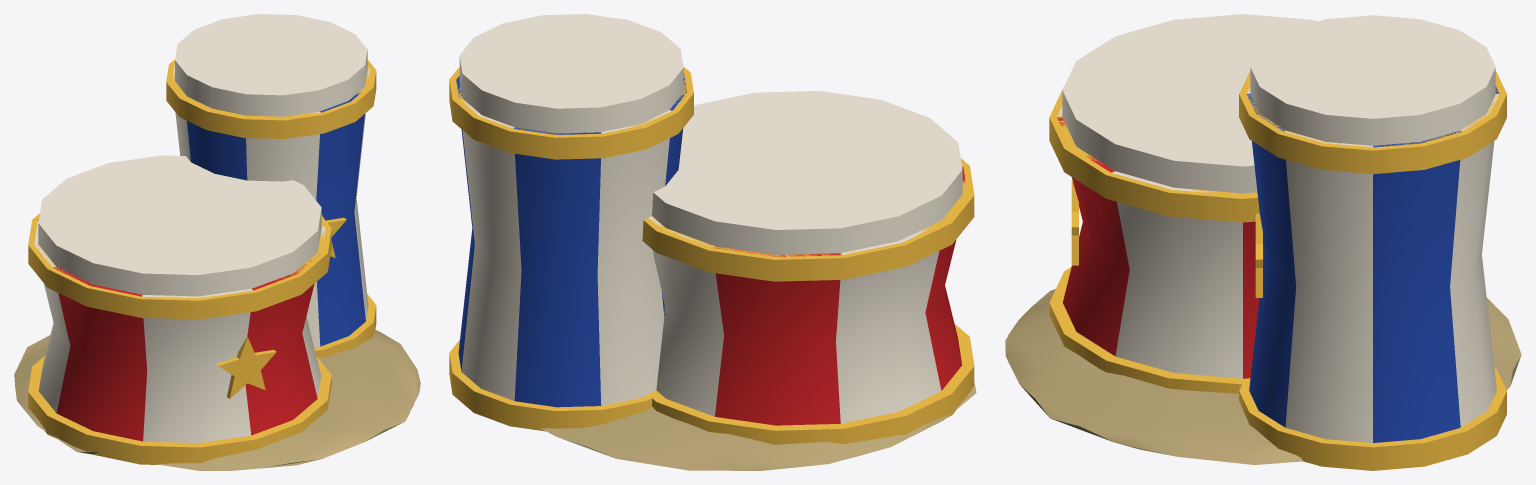
Rendered from StarTubs.fbx.
3 renders of one model, left to right at view 1: azimuth 30°, elevation 25°; view 2: azimuth 150°, elevation 25°; view 3: azimuth 270°, elevation 25°, orthographic. The views are drawn at different scales.
Parts seen in each view (by area): view 1: StarTubs; view 2: StarTubs; view 3: StarTubs.
Boxes of the visible parts, x1,y1,x2,y2 form: StarTubs: (14, 14, 420, 470); StarTubs: (449, 14, 976, 470); StarTubs: (1005, 14, 1521, 470).
Bounding box in the file's own units: 1.45 × 1.03 × 1.39.
Materials: 1 (1 with a texture image).
